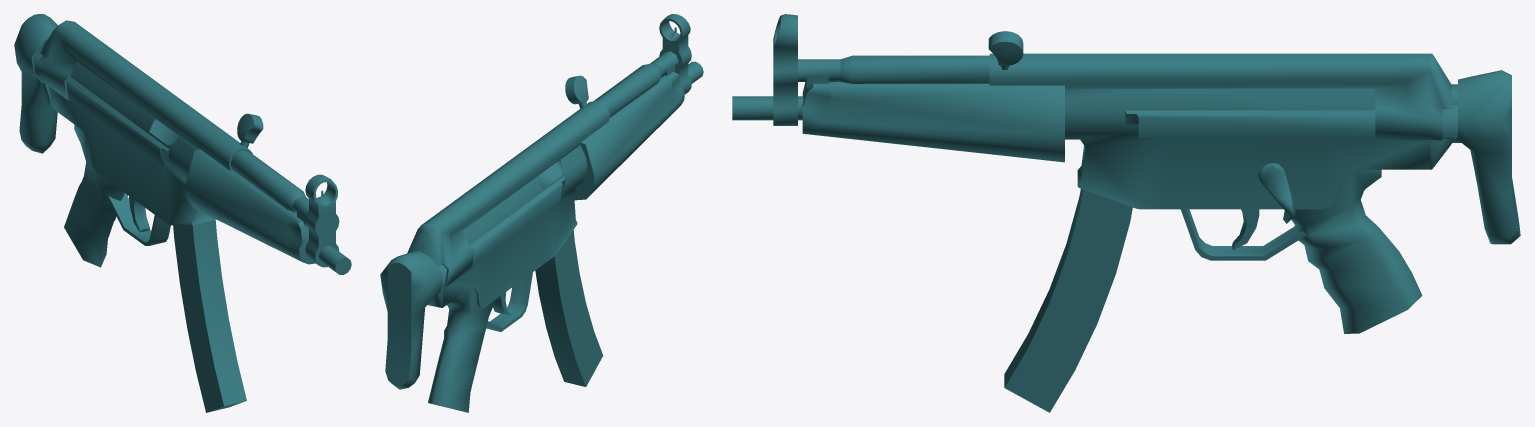
3 renders of one model, left to right at view 1: azimuth 30°, elevation 25°; view 2: azimuth 150°, elevation 25°; view 3: azimuth 270°, elevation 25°, orthographic. The views are drawn at different scales.
Parts seen in each view (by area): view 1: MP5, Clip; view 2: MP5, Clip; view 3: MP5, Clip.
Boxes of the visible parts, box(x1,y1,x2,y2) form: MP5: box(14, 14, 351, 274); Clip: box(173, 219, 246, 412); MP5: box(380, 14, 703, 412); Clip: box(535, 230, 603, 386); MP5: box(732, 14, 1520, 333); Clip: box(1004, 189, 1132, 412).
Size of the model in its own units: 0.0474 by 0.2679 by 0.4903.
